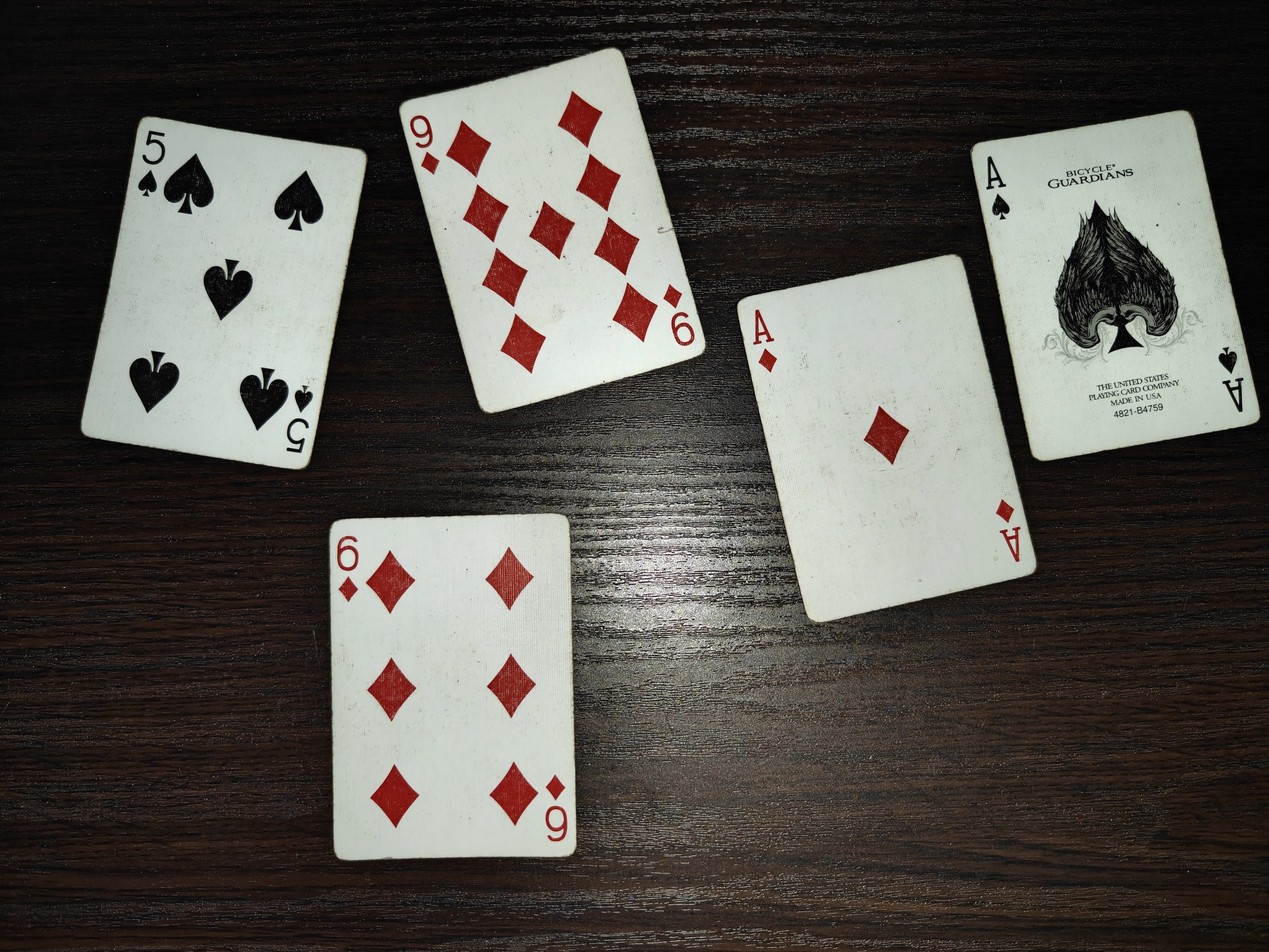5S: (79, 115, 368, 471)
6D: (328, 512, 577, 860)
9D: (398, 48, 705, 412)
AD: (739, 252, 1038, 623)
AS: (971, 108, 1260, 460)
